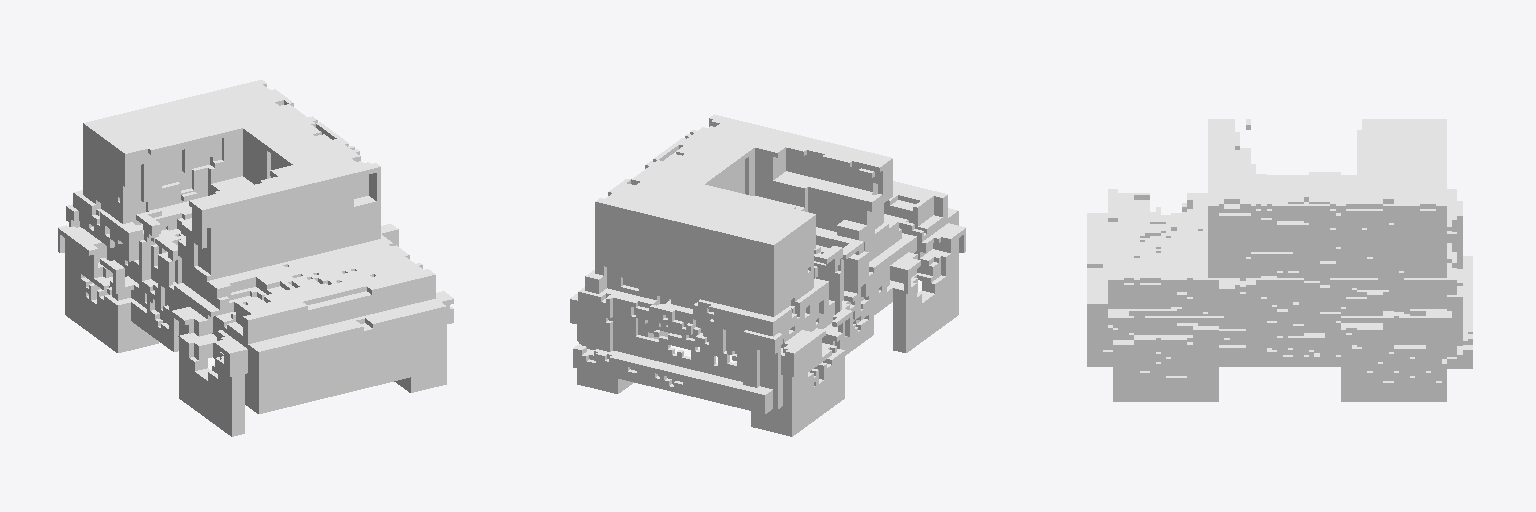
The model's file is recar_2.2.obj.
3 renders of one model, left to right at view 1: azimuth 30°, elevation 25°; view 2: azimuth 150°, elevation 25°; view 3: azimuth 270°, elevation 25°, orthographic.
Bounding box in the file's own units: 49 × 39 × 73.